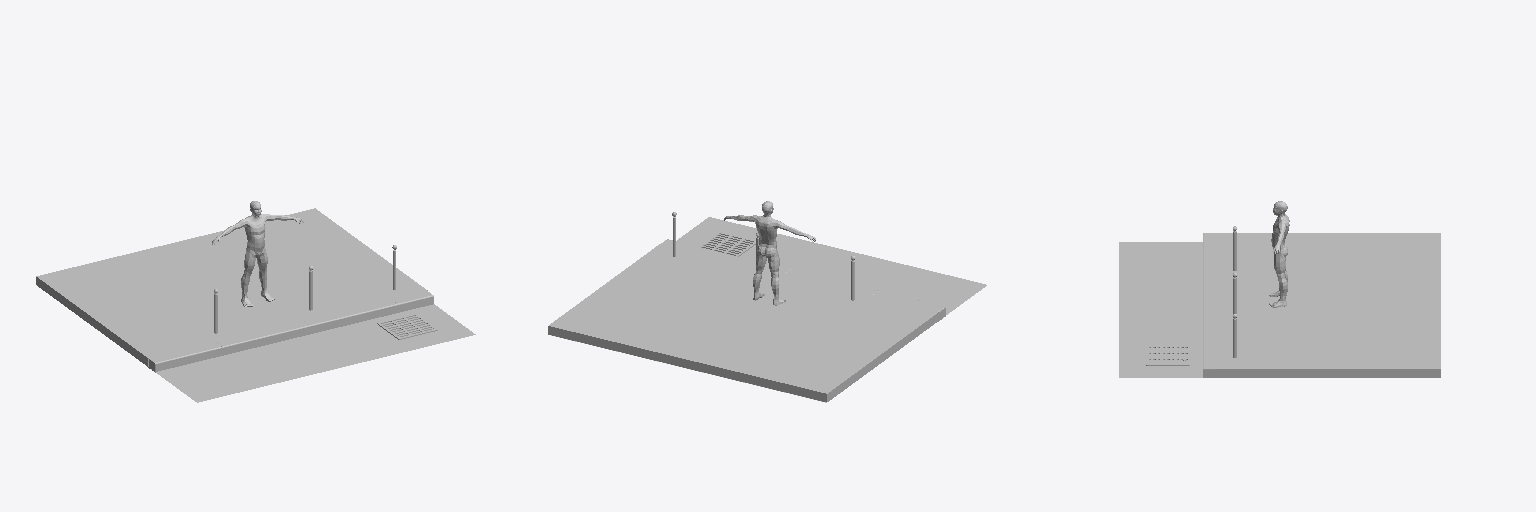
Rendered from scene_riles.obj.
3 views of the same model, side by side, from view 1: azimuth 30°, elevation 25°; view 2: azimuth 150°, elevation 25°; view 3: azimuth 270°, elevation 25° (orthographic).
Parts seen in each view (by area): view 1: base-trottoir, Plane, Male_Base, Cube.1, Cube.3, Cube.2, Cube.4; view 2: base-trottoir, Plane, Male_Base; view 3: base-trottoir, Plane, Male_Base, Cube.3, Cube.1.
Part boxes in pixels (x1,y1,x2,y2): base-trottoir: (36,208,427,366); Plane: (151,304,475,402); Male_Base: (212,201,303,306); Cube.1: (216,321,309,355); Cube.3: (303,298,397,333); Cube.2: (148,342,221,372); Cube.4: (391,291,433,312); base-trottoir: (548,244,939,401); Plane: (551,217,986,402); Male_Base: (724,201,815,305); base-trottoir: (1216,233,1440,377); Plane: (1119,242,1202,377); Male_Base: (1269,201,1289,307); Cube.3: (1203,309,1218,350); Cube.1: (1203,266,1218,308).
Bounding box in the file's own units: 500 × 186 × 500.